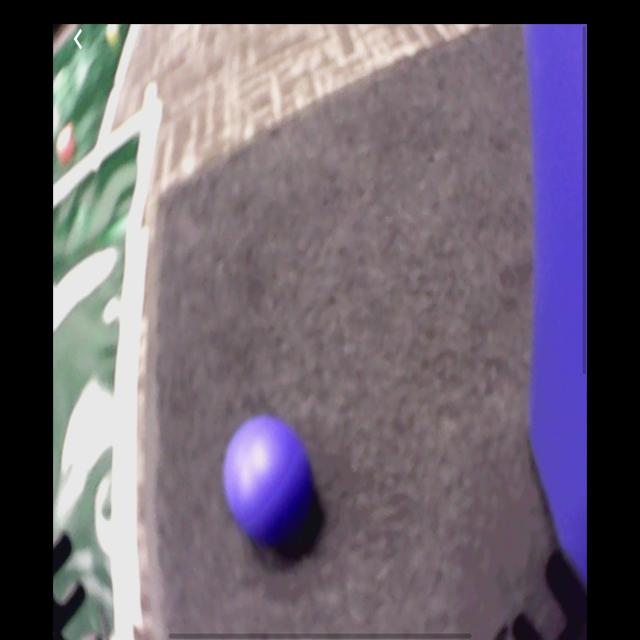ball: (224, 415, 313, 540)
